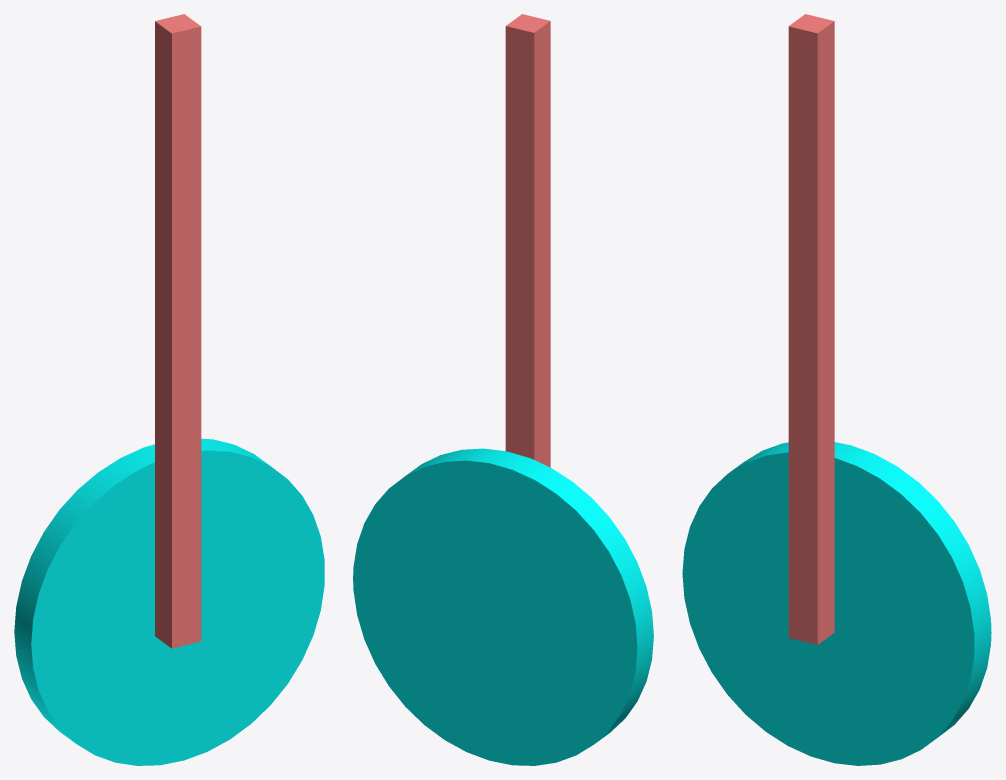
Rendered from wheel.obj.
3 views of the same model, side by side, from view 1: azimuth 30°, elevation 25°; view 2: azimuth 150°, elevation 25°; view 3: azimuth 330°, elevation 25° (orthographic). The views are drawn at different scales.
Visible parts, largest first — view 1: |wheel|Root|color, |wheel|Root|color-2; view 2: |wheel|Root|color, |wheel|Root|color-2; view 3: |wheel|Root|color, |wheel|Root|color-2.
Boxes of the visible parts, x1,y1,x2,y2 form: |wheel|Root|color: (14, 438, 324, 765); |wheel|Root|color-2: (155, 14, 201, 648); |wheel|Root|color: (353, 448, 653, 765); |wheel|Root|color-2: (505, 14, 550, 467); |wheel|Root|color: (682, 442, 991, 765); |wheel|Root|color-2: (788, 14, 834, 644).
Bounding box in the file's own units: 0.5 × 1.21 × 0.1.
